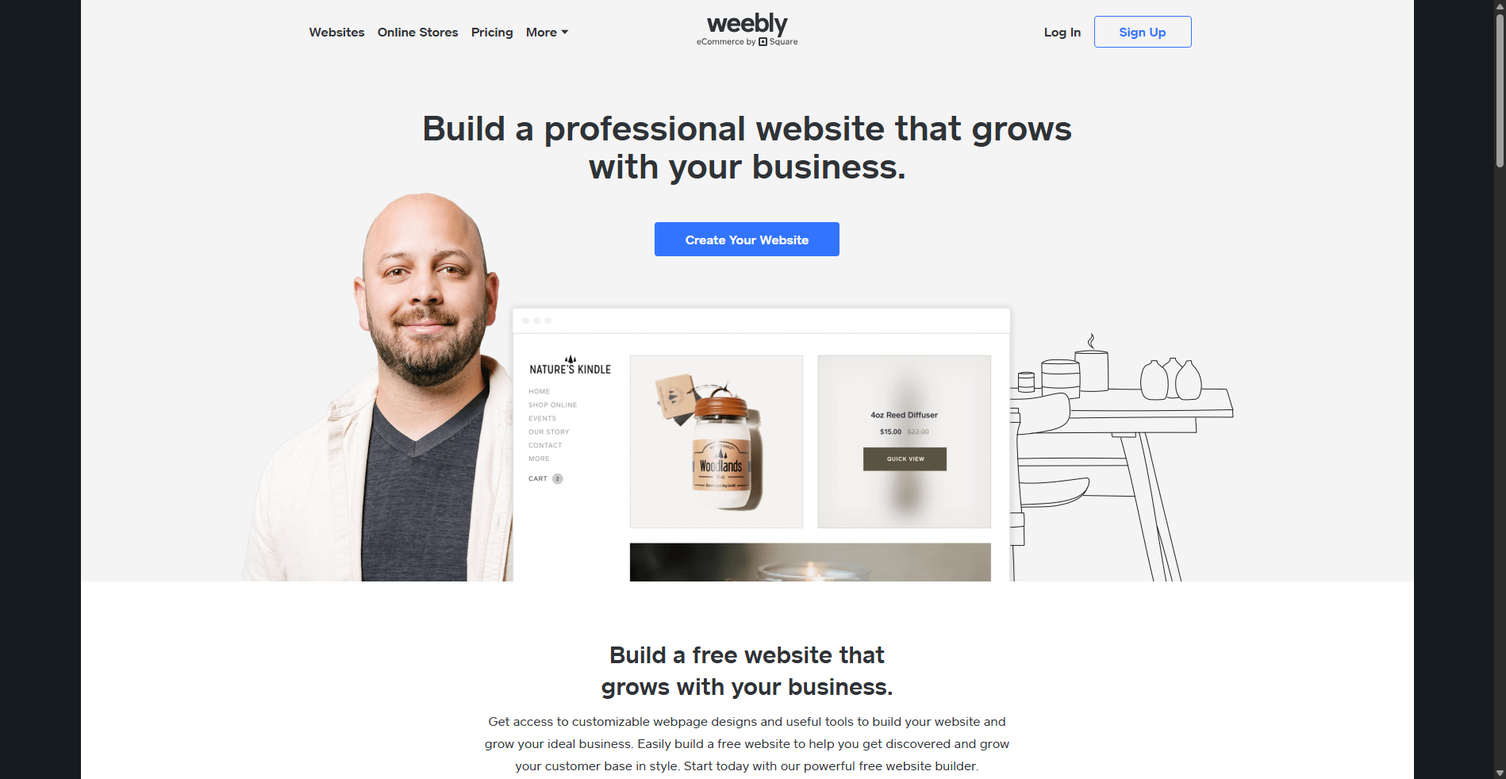general_button: (1094, 16, 1191, 48)
general_image: (242, 193, 1252, 581), (241, 193, 1234, 581), (696, 13, 798, 46), (561, 22, 569, 41)
general_link: (655, 222, 839, 256), (377, 22, 458, 41), (309, 22, 365, 41), (526, 22, 569, 41), (471, 22, 513, 41), (1044, 22, 1081, 41)
